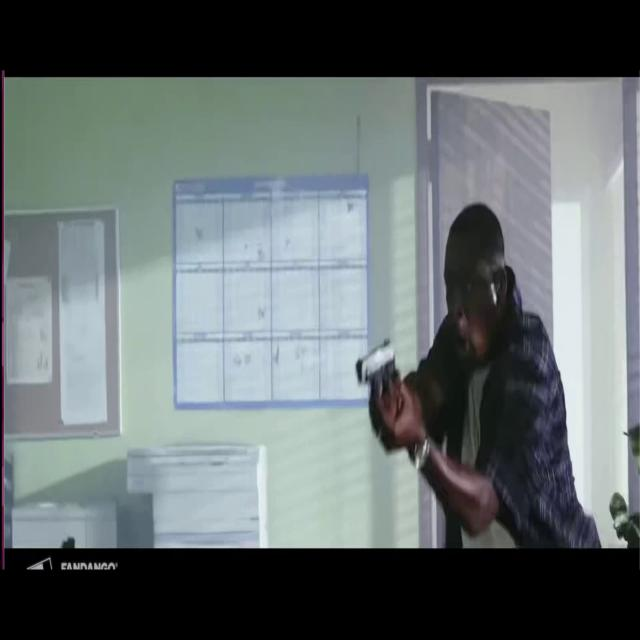weapons: (350, 327, 405, 438)
